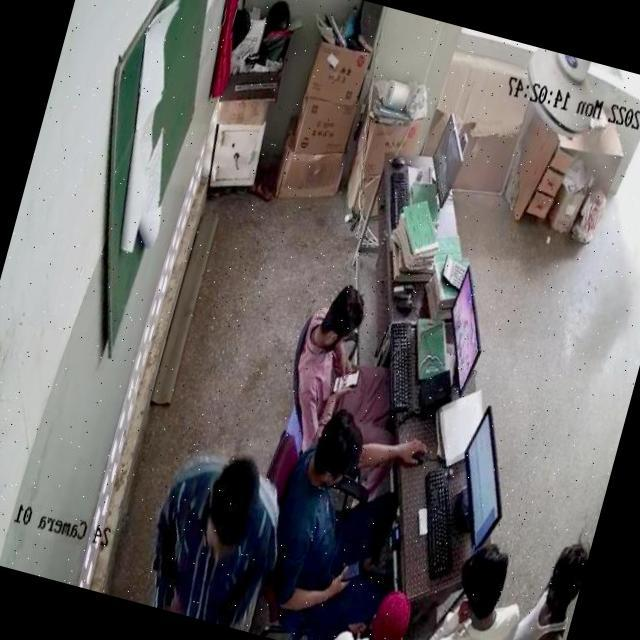person: (260, 416, 412, 630), (144, 452, 283, 630), (290, 288, 402, 427), (410, 530, 537, 640), (471, 527, 590, 640), (325, 573, 420, 640)
